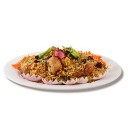briyani: (27, 48, 104, 77)
